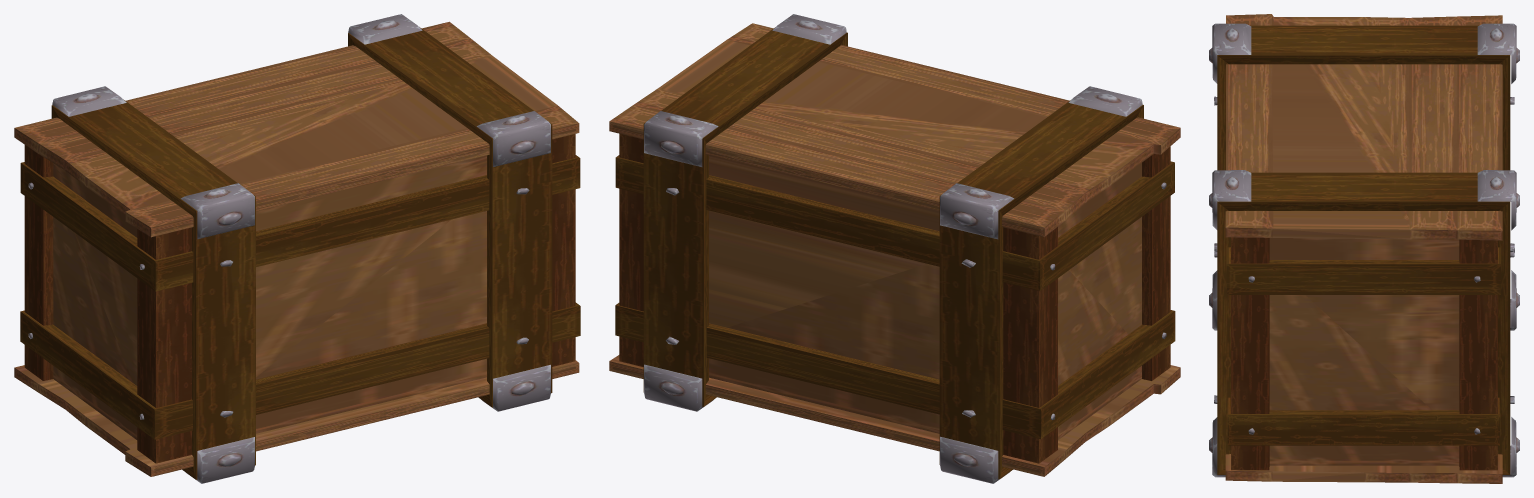
Rendered from crate-long.lod1.gltf.
The picture shows the model from 3 angles, left to right: view 1: azimuth 30°, elevation 25°; view 2: azimuth 150°, elevation 25°; view 3: azimuth 270°, elevation 25°; orthographic projection.
Visible parts, largest first — view 1: Crate_Wooden; view 2: Crate_Wooden; view 3: Crate_Wooden.
Part boxes in pixels (bbox=[...]): Crate_Wooden: bbox=[14, 14, 580, 483]; Crate_Wooden: bbox=[609, 14, 1180, 483]; Crate_Wooden: bbox=[1209, 14, 1519, 483].
Size of the model in its own units: 1.5 by 0.9316 by 0.9091.
2 materials, 2 textured.
